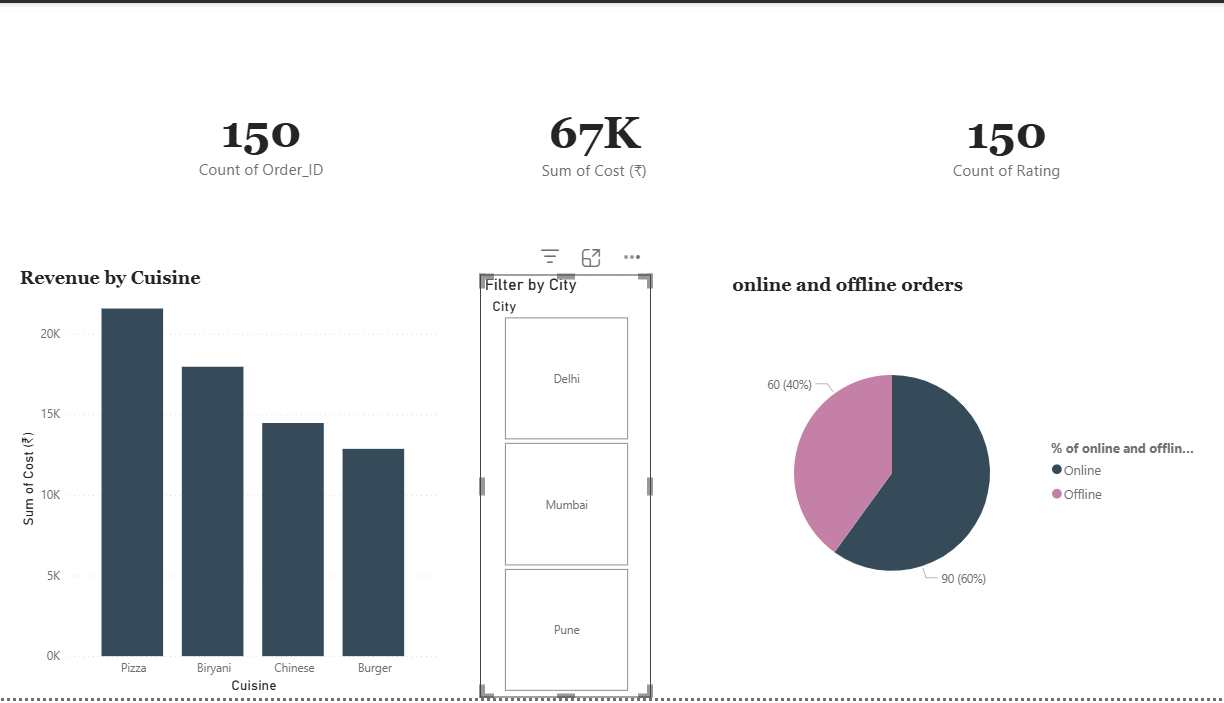

What the dashboard file says about the page in this screenshot:
{"tool":"powerbi","page":{"name":"Page 1","canvas":[1280,720],"ordinal":0},"visuals":[{"type":"card","fields":{"Values":["CountNonNull(Order Data.Order_ID)"]},"box":[134.2,0,279.7,279.7],"z":0},{"type":"card","fields":{"Values":["Sum(Order Data.Cost (₹))"]},"box":[478.1,0,279.7,281.6],"z":1},{"type":"card","fields":{"Values":["CountNonNull(Order Data.Rating)"]},"box":[907.1,0,279.7,281.6],"z":2},{"type":"pieChart","title":"online and offline orders","fields":{"Category":["Order Data.Order_Type"],"Y":["CountNonNull(Order Data.Order_ID)"]},"box":[757.8,281.6,491.3,389.3],"z":3},{"type":"clusteredColumnChart","title":"Revenue by Cuisine","fields":{"Category":["Order Data.Cuisine"],"Y":["Sum(Order Data.Cost (₹))"]},"box":[18.9,274,444.1,446],"z":4},{"type":"slicer","title":"Filter by City","fields":{"Values":["Order Data.City"]},"box":[500.8,281.6,177.6,438.4],"z":5}]}

Visuals, with their boxes in screenshot pixels (x1, y1, x2, y2), scaled from the page's 1280x720 canvas onto the 1224x703 screenshot:
card - CountNonNull(Order Data.Order_ID): locate(128, 0, 396, 273)
card - Sum(Order Data.Cost (₹)): locate(457, 0, 725, 275)
card - CountNonNull(Order Data.Rating): locate(867, 0, 1135, 275)
"online and offline orders" pieChart: locate(725, 275, 1194, 655)
"Revenue by Cuisine" clusteredColumnChart: locate(18, 268, 443, 702)
"Filter by City" slicer: locate(479, 275, 649, 702)
